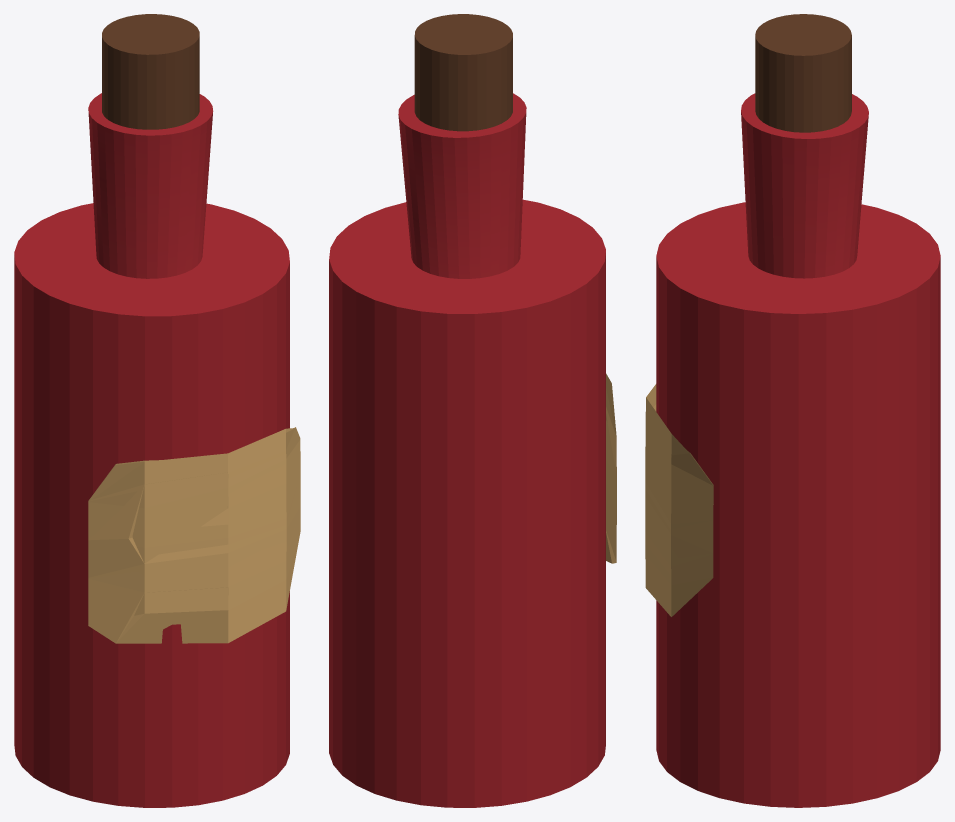
Rendered from MediumPotionBottleRED.fbx.
The picture shows the model from 3 angles, left to right: view 1: azimuth 30°, elevation 25°; view 2: azimuth 150°, elevation 25°; view 3: azimuth 270°, elevation 25°; orthographic projection.
Visible parts, largest first — view 1: Sphere, Plane, Cylinder, Cylinder.001; view 2: Sphere, Cylinder, Cylinder.001, Plane; view 3: Sphere, Cylinder, Plane, Cylinder.001.
Part boxes in pixels (box(x1,y1,x2,y2)): Sphere: box(14, 203, 289, 807); Plane: box(88, 427, 300, 643); Cylinder: box(88, 93, 213, 278); Cylinder.001: box(102, 14, 199, 129); Sphere: box(329, 199, 605, 807); Cylinder: box(398, 93, 526, 278); Cylinder.001: box(414, 14, 512, 131); Plane: box(606, 373, 616, 563); Sphere: box(656, 202, 940, 807); Cylinder: box(741, 93, 868, 278); Plane: box(645, 384, 713, 616); Cylinder.001: box(755, 14, 851, 132).
Size of the model in its own units: 76.76 by 220 by 82.49.
